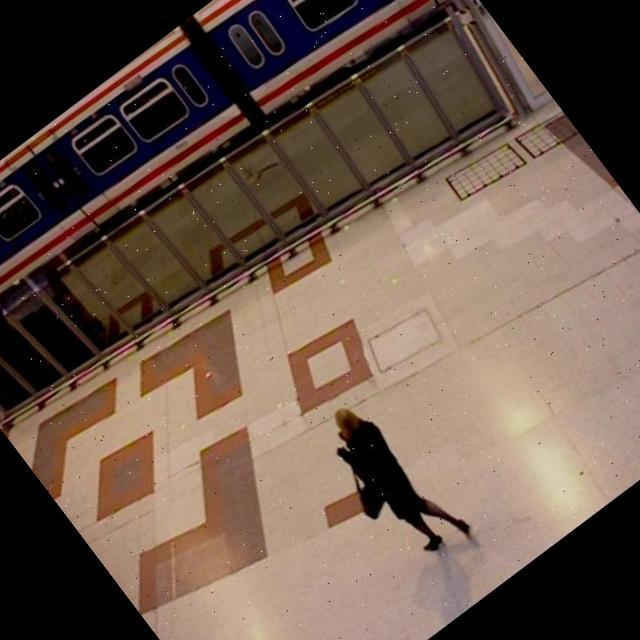person: (315, 385, 480, 575)
